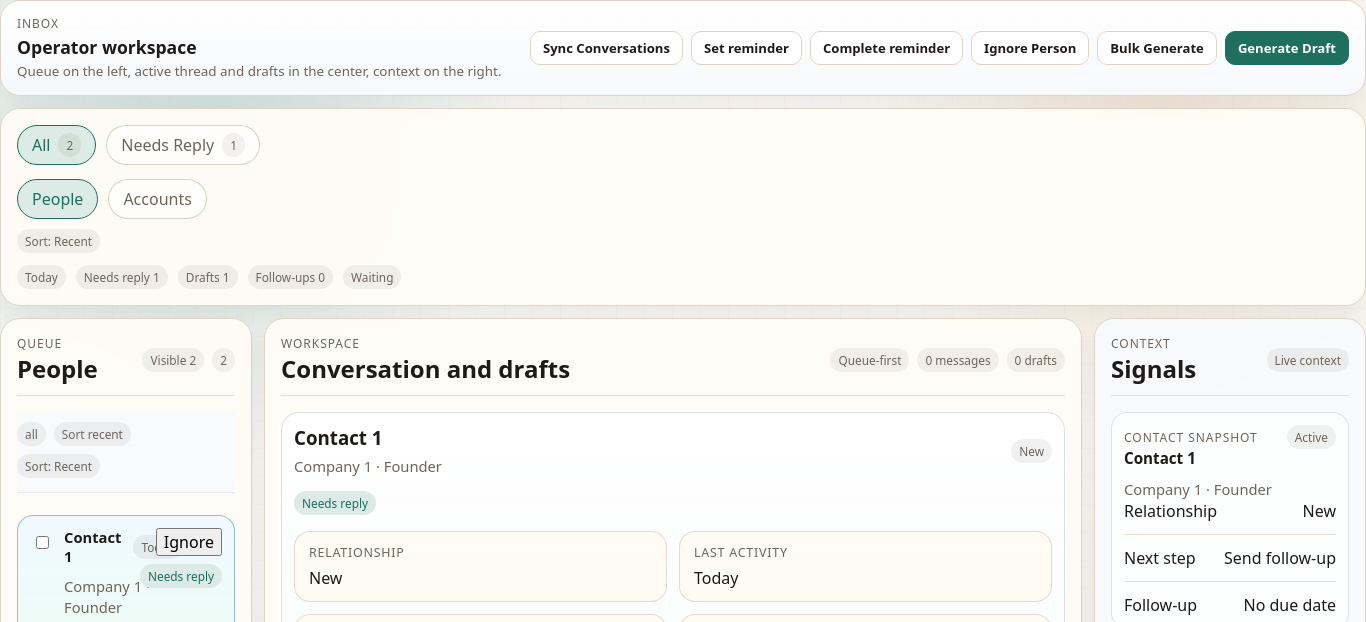
Test: InboxWorkspace bulk draft flow › shows readiness details when manual sync is blocked but LinkedIn credentials are configured
Step 1. Click the button "Sync Conversations" → x=606, y=48, box top-left (530, 31), bottom-right (683, 65)
(page scrolled)
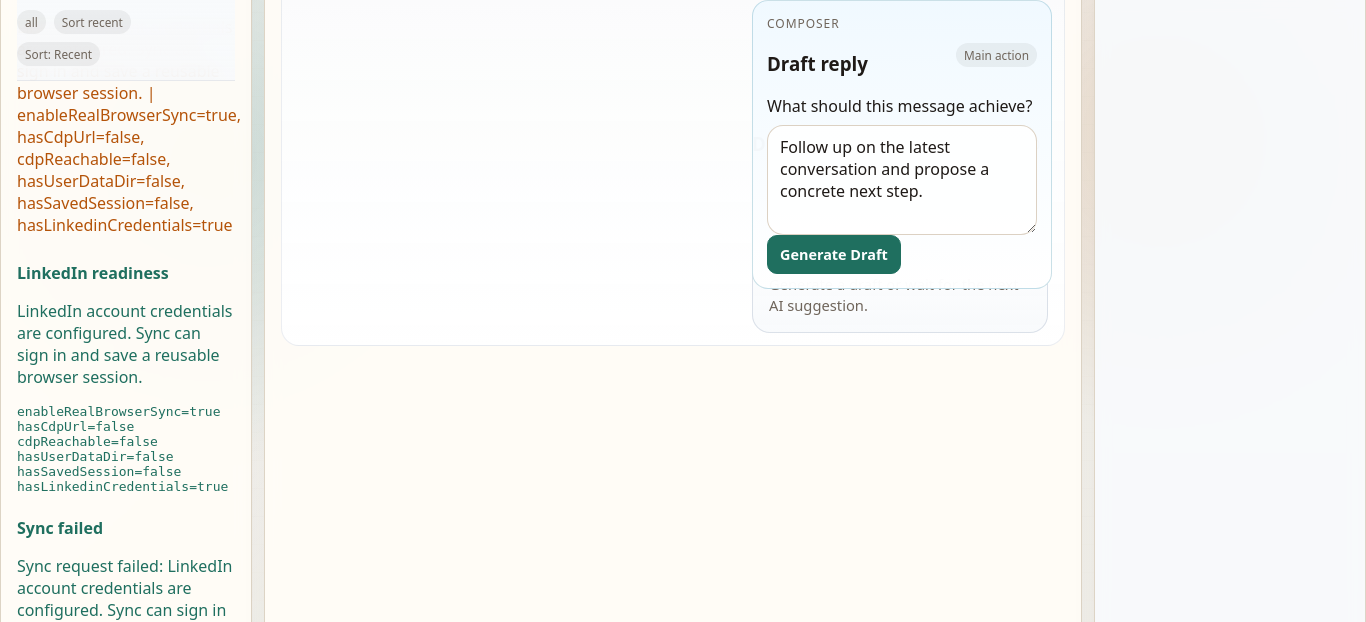
Now the element with test id "sync-readiness" is shown, box top-left (17, 262), bottom-right (235, 507)
Now the text "LinkedIn readiness" is shown, box top-left (17, 262), bottom-right (169, 284)
Now the element with test id "sync-readiness" shows "hasLinkedinCredentials=true", box top-left (17, 404), bottom-right (228, 494)
